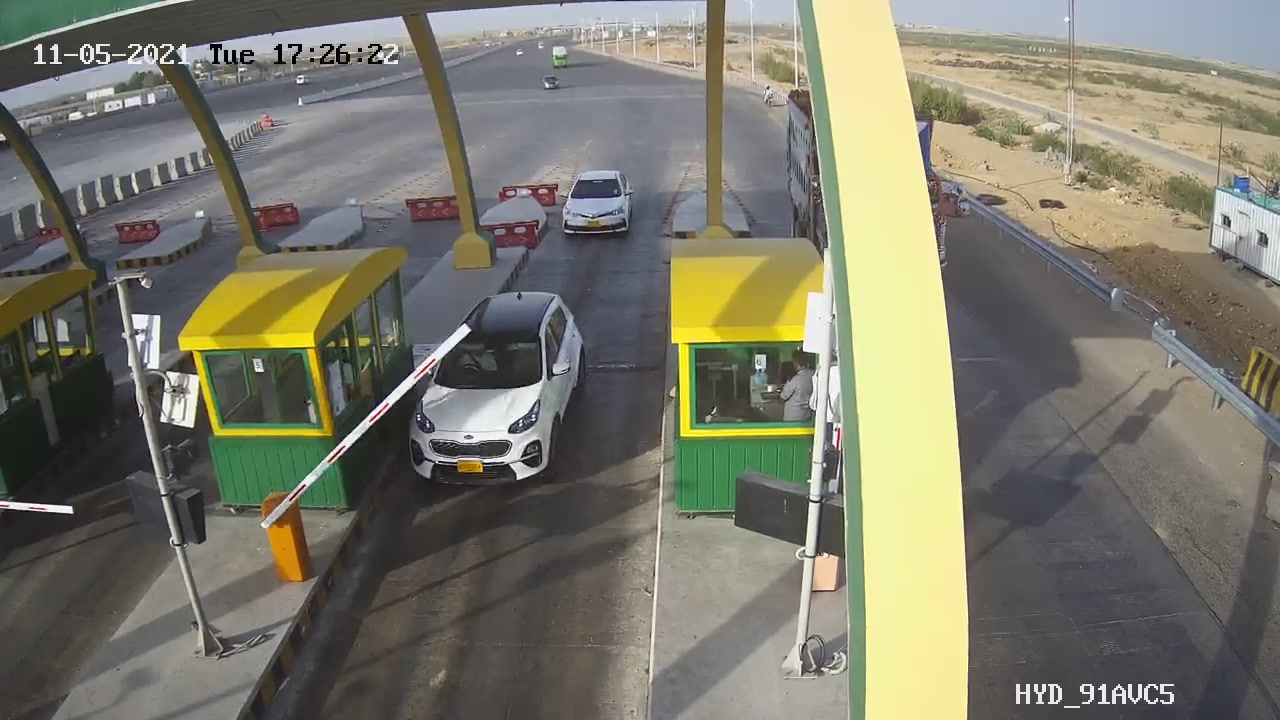F1: (392, 273, 600, 501)
